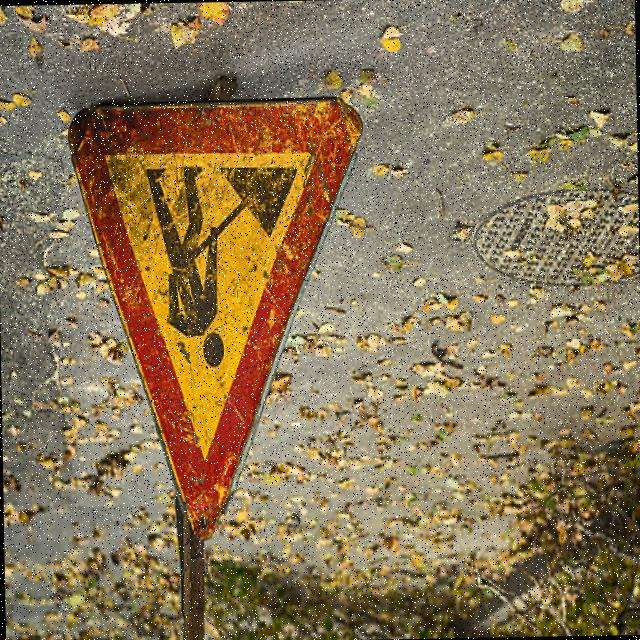road_work: (66, 93, 372, 540)
